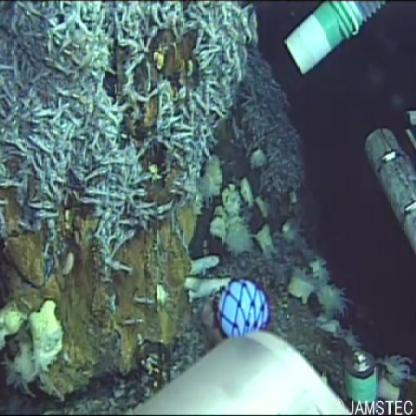Bio: (4, 1, 258, 232), (177, 250, 236, 301)
Rov: (137, 274, 358, 416), (282, 1, 389, 76)
